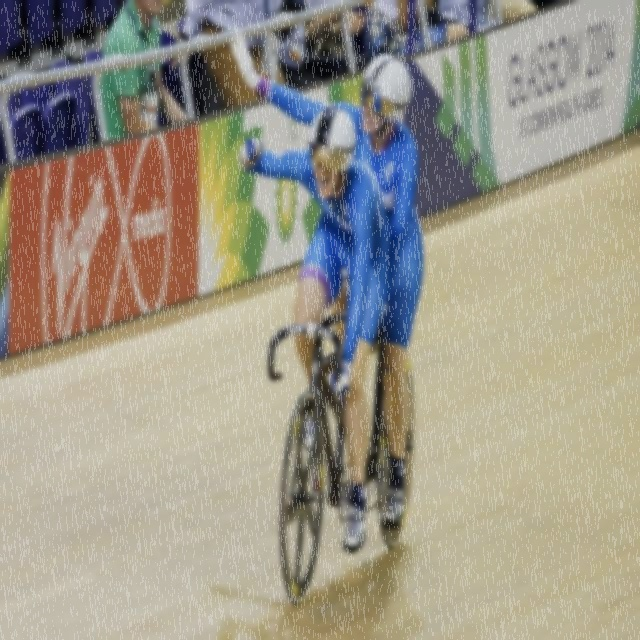pessoa: (228, 24, 427, 536), (234, 100, 392, 558), (97, 0, 189, 140), (168, 0, 288, 106), (352, 0, 543, 55), (286, 0, 353, 89)
